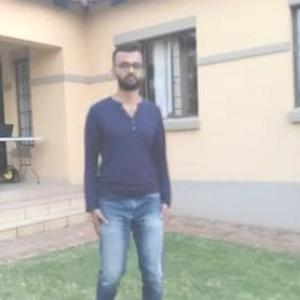follow: (78, 38, 172, 299)
